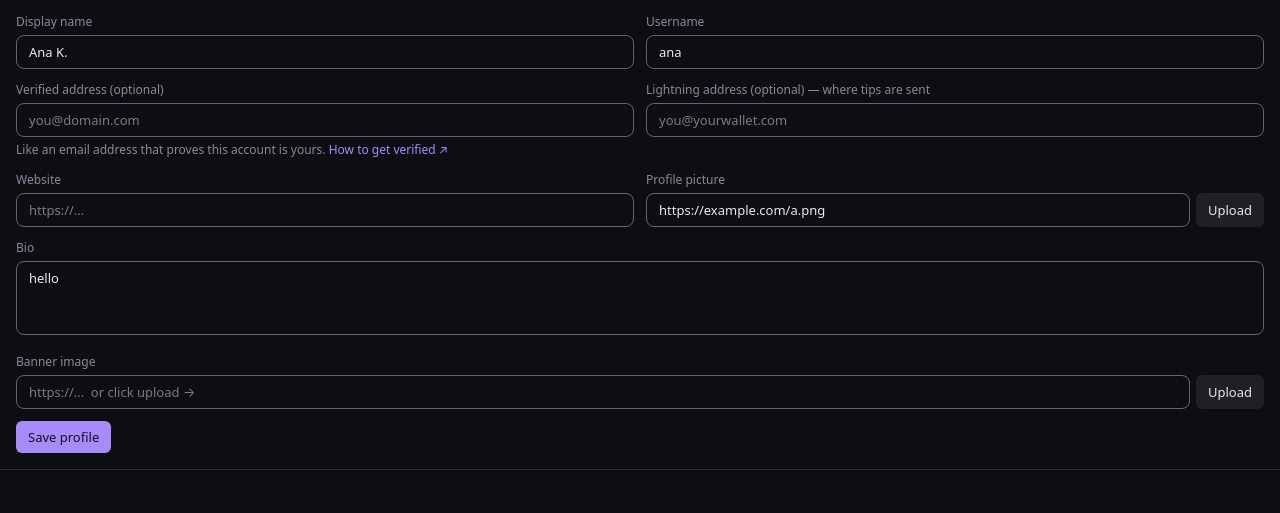
Test: EditProfileForm › says why when no relay took it, and keeps what was typed
The image size is (1280, 513).
Replace the text in the field with placeholder "Your name" below "Display name" with "Ana Kovač" at [325, 52], box left=16, top=35, right=634, bottom=69
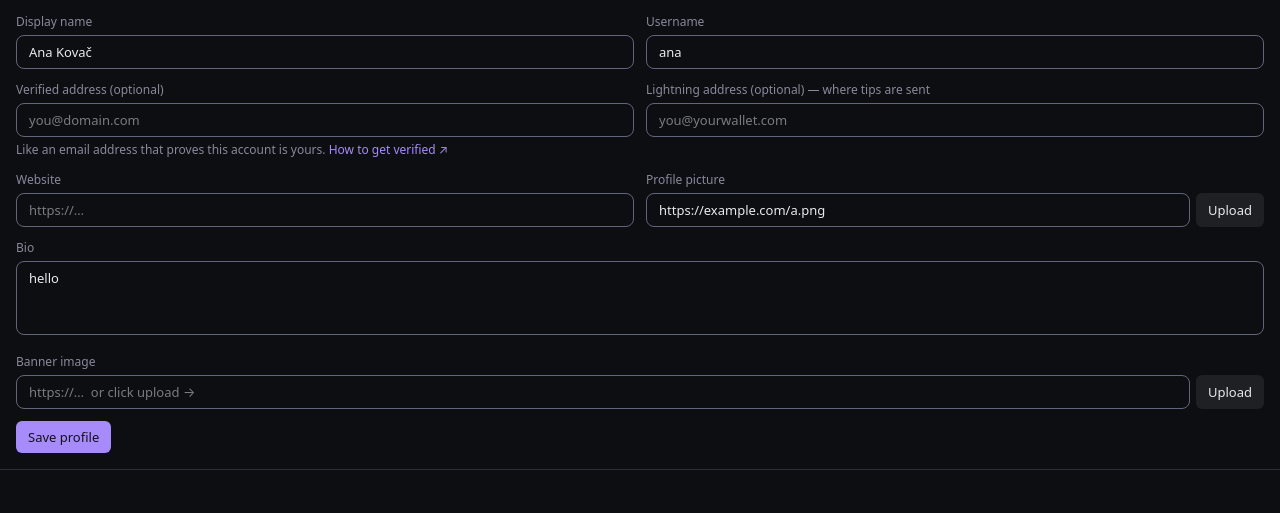
Click the button "Save profile" at [64, 437], box left=16, top=421, right=111, bottom=453
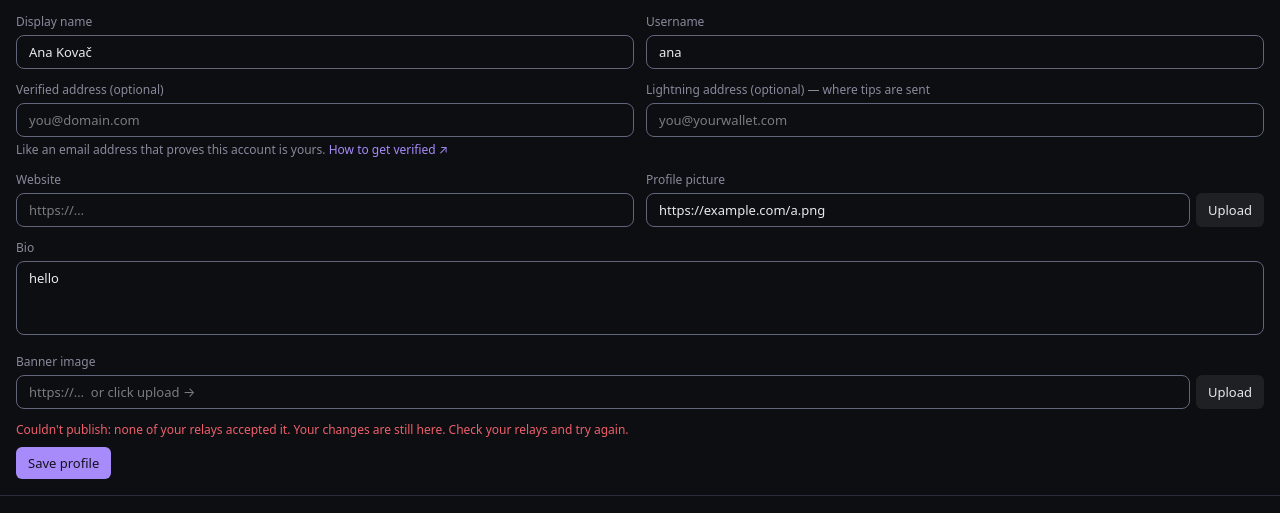
Now the text "Couldn't publish: none of your relays accepted it. Your changes are still here. Check your relays and try again." is shown, box left=16, top=421, right=629, bottom=438
